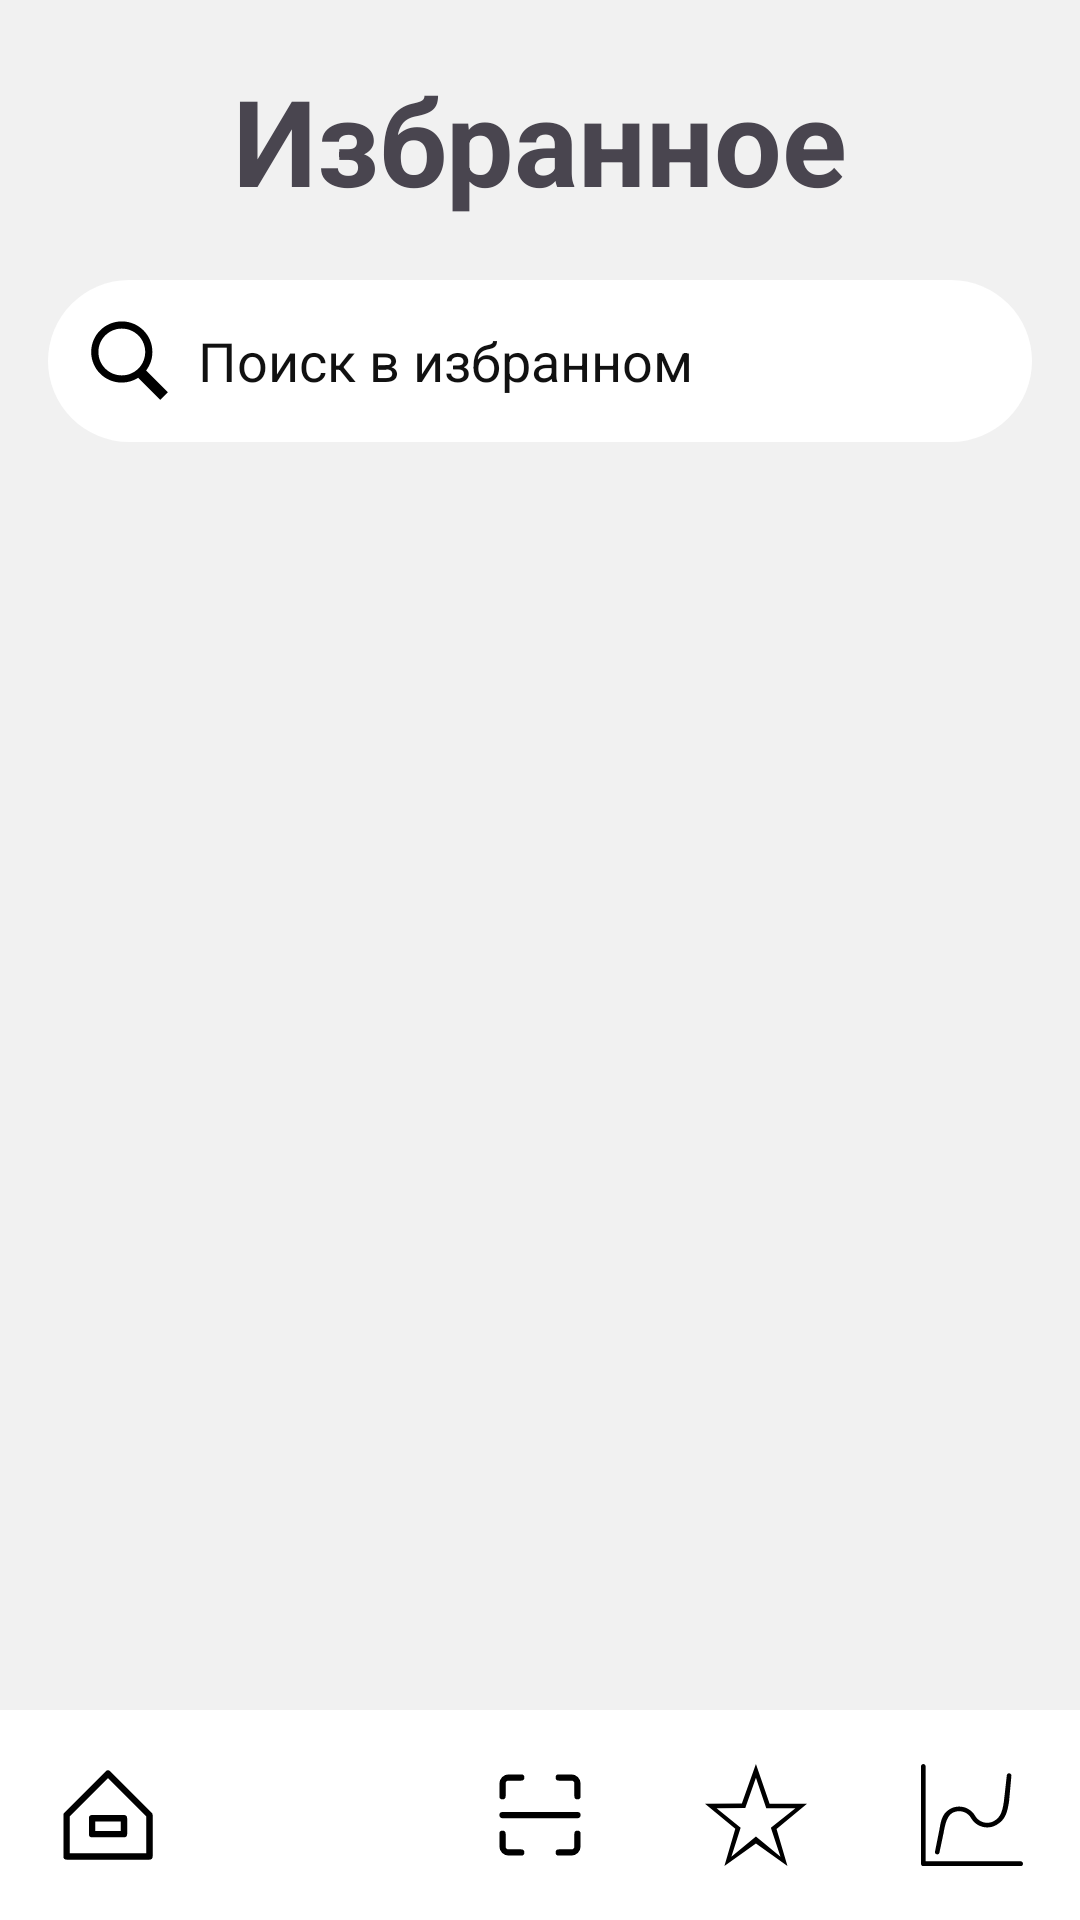

Where to tap for icons on this 1080px x 1920px app screen, as point (x, y):
favor: point (756, 1815)
home: point (108, 1815)
stat: point (972, 1815)
